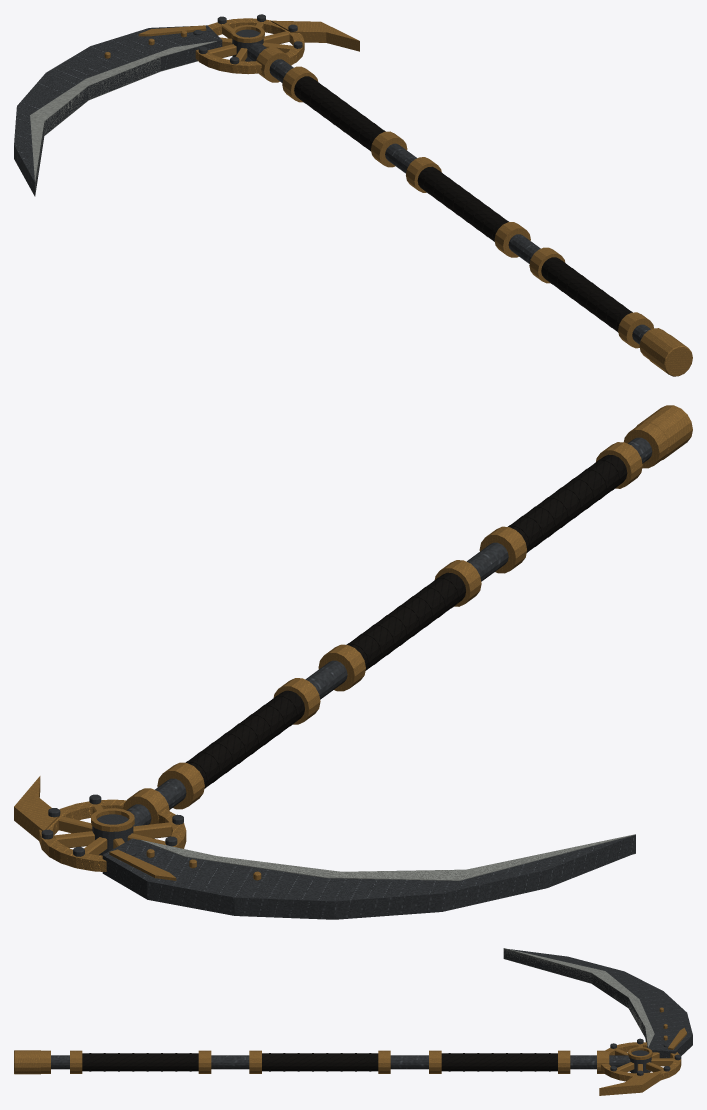
Rendered from chronal-scythe-ready.glb.
The picture shows the model from 3 angles, top to bottom: view 1: azimuth 30°, elevation 25°; view 2: azimuth 150°, elevation 25°; view 3: azimuth 270°, elevation 25°; orthographic projection. The views are drawn at different scales.
Visible parts, largest first — view 1: Swept dark scythe blade shell, Honed silver cutting bevel, Leather hand section.002, Leather hand section.001, Leather hand section, Steel sectional scythe shaft, Open brass clockwork hub, Scythe pommel, Counterweight rear hooked spur, Shaft brass ferrule.005, Shaft brass ferrule.003, Shaft brass ferrule.001 (+2 smaller); view 2: Swept dark scythe blade shell, Honed silver cutting bevel, Leather hand section.001, Leather hand section.002, Leather hand section, Steel sectional scythe shaft, Open brass clockwork hub, Counterweight rear hooked spur, Scythe pommel, Shaft brass ferrule.006, Shaft brass ferrule.004, Shaft brass ferrule.002 (+5 smaller); view 3: Swept dark scythe blade shell, Steel sectional scythe shaft, Leather hand section, Leather hand section.002, Leather hand section.001, Honed silver cutting bevel, Open brass clockwork hub, Counterweight rear hooked spur, Scythe pommel, Shaft brass ferrule.002, Shaft brass ferrule.003, Shaft brass ferrule.004 (+4 smaller).
Boxes of the visible parts, x1,y1,x2,y2 form: Swept dark scythe blade shell: (14,25,222,196); Honed silver cutting bevel: (30,41,216,194); Leather hand section.002: (294,76,384,149); Leather hand section.001: (417,166,507,240); Leather hand section: (541,257,631,330); Steel sectional scythe shaft: (247,43,650,344); Open brass clockwork hub: (195,18,304,74); Scythe pommel: (646,333,692,376); Counterweight rear hooked spur: (271,20,359,51); Shaft brass ferrule.005: (371,131,407,167); Shaft brass ferrule.003: (494,222,530,257); Shaft brass ferrule.001: (618,312,653,348); Swept dark scythe blade shell: (102,835,635,919); Honed silver cutting bevel: (139,834,635,880); Leather hand section.001: (348,572,465,668); Leather hand section.002: (187,690,304,787); Leather hand section: (509,454,627,551); Steel sectional scythe shaft: (126,437,652,826); Open brass clockwork hub: (39,799,186,871); Counterweight rear hooked spur: (14,776,59,840); Scythe pommel: (636,405,692,459); Shaft brass ferrule.006: (157,762,204,809); Shaft brass ferrule.004: (318,644,365,691); Shaft brass ferrule.002: (479,526,527,573); Swept dark scythe blade shell: (503,949,692,1058); Steel sectional scythe shaft: (51,1055,630,1069); Leather hand section: (82,1053,198,1071); Leather hand section.002: (441,1053,557,1071); Leather hand section.001: (262,1053,378,1071); Honed silver cutting bevel: (503,948,654,1047); Open brass clockwork hub: (601,1042,681,1081); Counterweight rear hooked spur: (599,1072,661,1095); Scythe pommel: (14,1050,40,1074); Shaft brass ferrule.002: (198,1050,211,1073); Shaft brass ferrule.003: (249,1050,261,1073); Shaft brass ferrule.004: (378,1050,390,1073).
Bounding box in the file's own units: 0.84 × 0.062 × 1.74.
4 materials, 4 textured.
